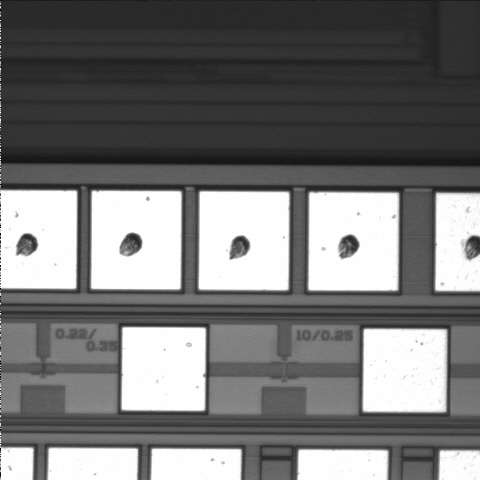pad: (308, 192, 399, 291), (199, 191, 289, 290), (91, 191, 181, 289), (122, 327, 206, 411), (363, 329, 447, 412)
